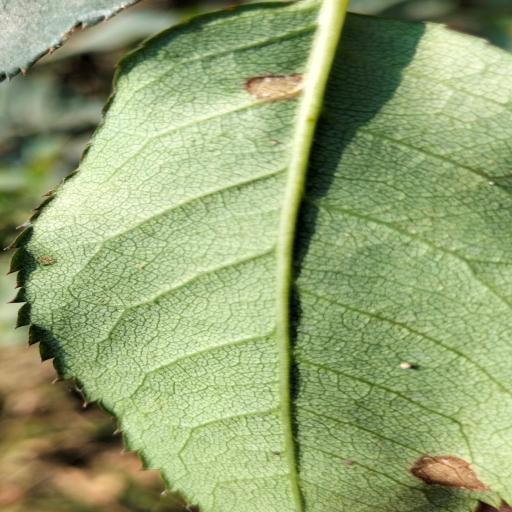black_spot: (7, 0, 512, 512)
